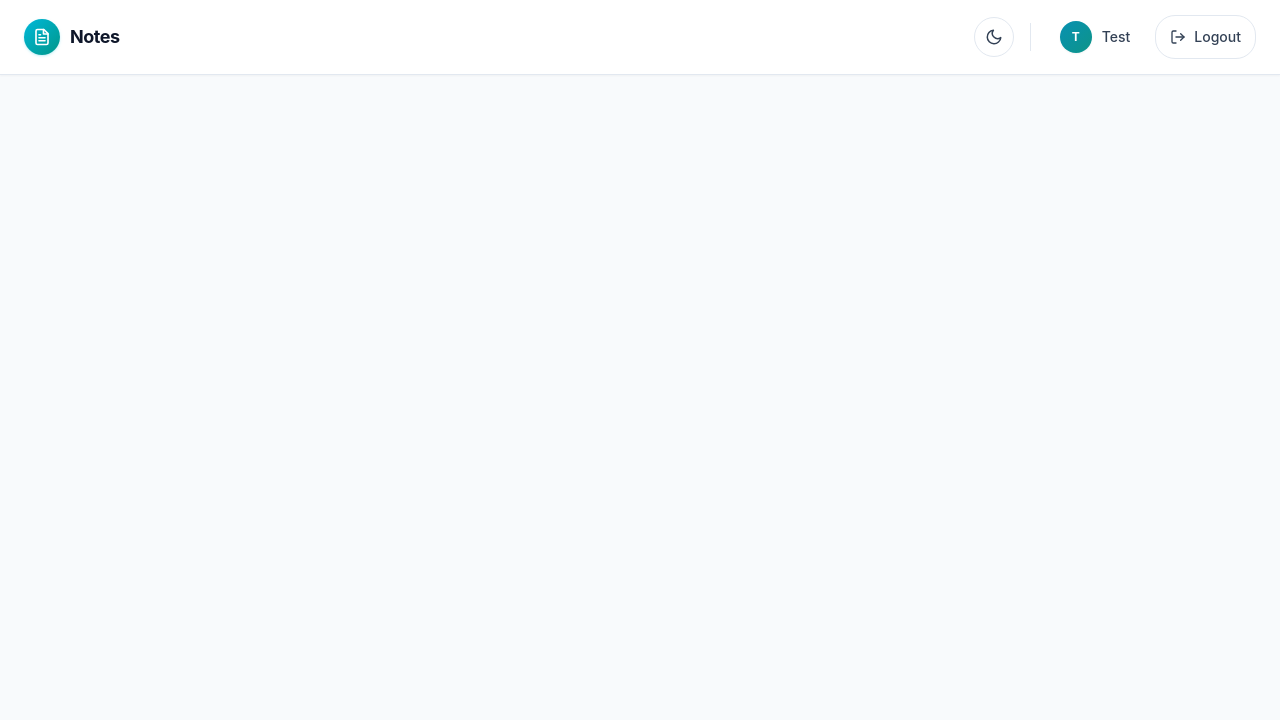
Scenario: logout shows landing details after success
The image size is (1280, 720).
Click the button "Logout".
click(1206, 37)  # box [1155,15,1256,59]
(page scrolled)
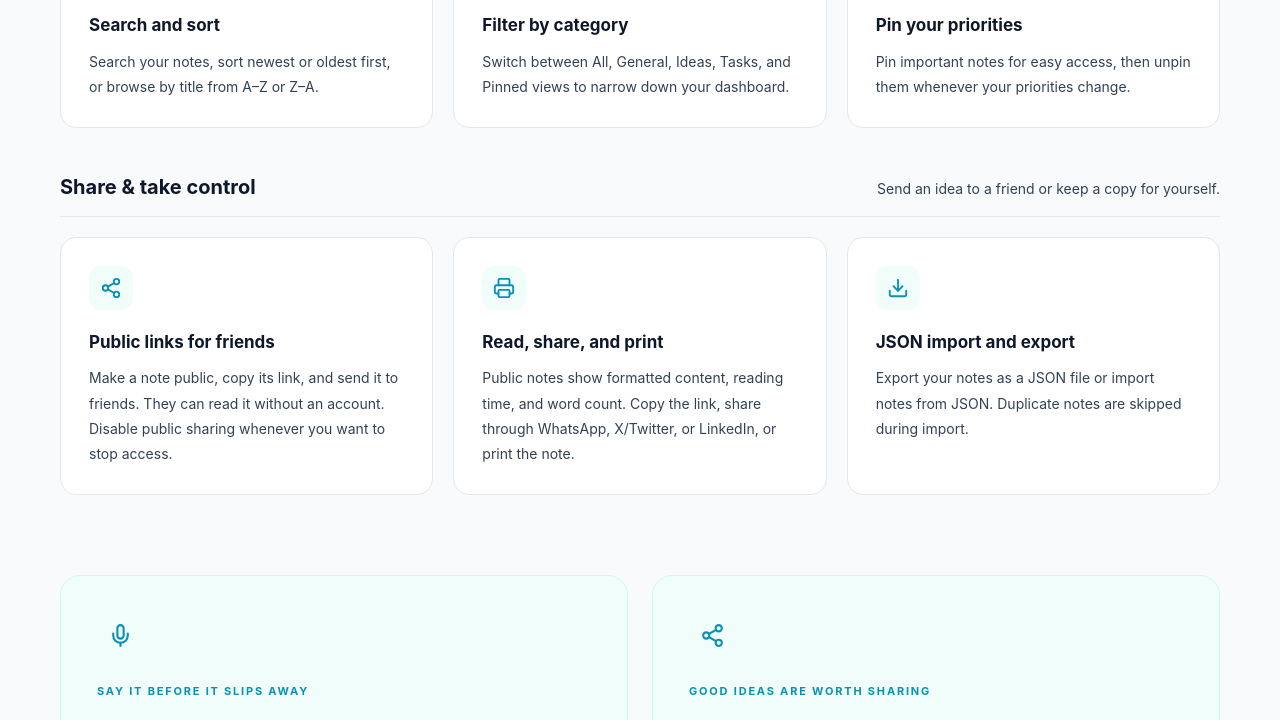
Expected: the heading "Public links for friends" is shown, [89,332,275,352]
